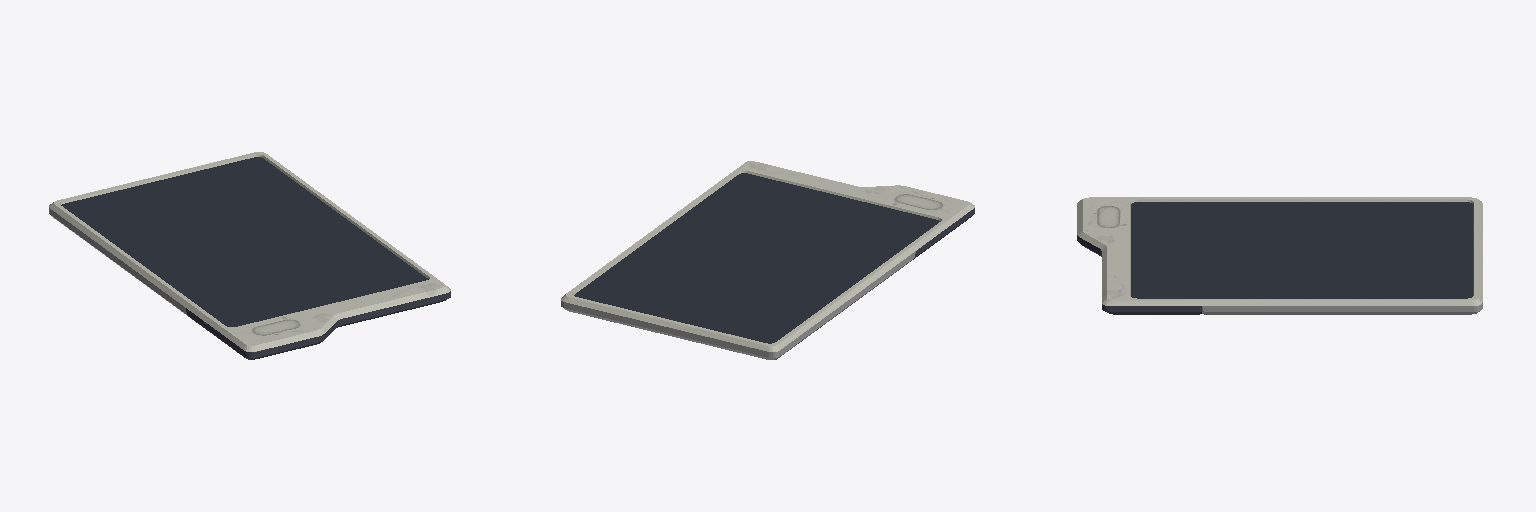
3 views of the same model, side by side, from view 1: azimuth 30°, elevation 25°; view 2: azimuth 150°, elevation 25°; view 3: azimuth 270°, elevation 25° (orthographic).
Visible parts, largest first — view 1: Tablet_TabletMesh; view 2: Tablet_TabletMesh; view 3: Tablet_TabletMesh.
Part boxes in pixels (bbox=[...]): Tablet_TabletMesh: bbox=[49, 152, 450, 359]; Tablet_TabletMesh: bbox=[561, 161, 974, 359]; Tablet_TabletMesh: bbox=[1077, 197, 1482, 314].
Bounding box in the file's own units: 0.3458 × 0.0213 × 0.557.
1 materials, 1 textured.